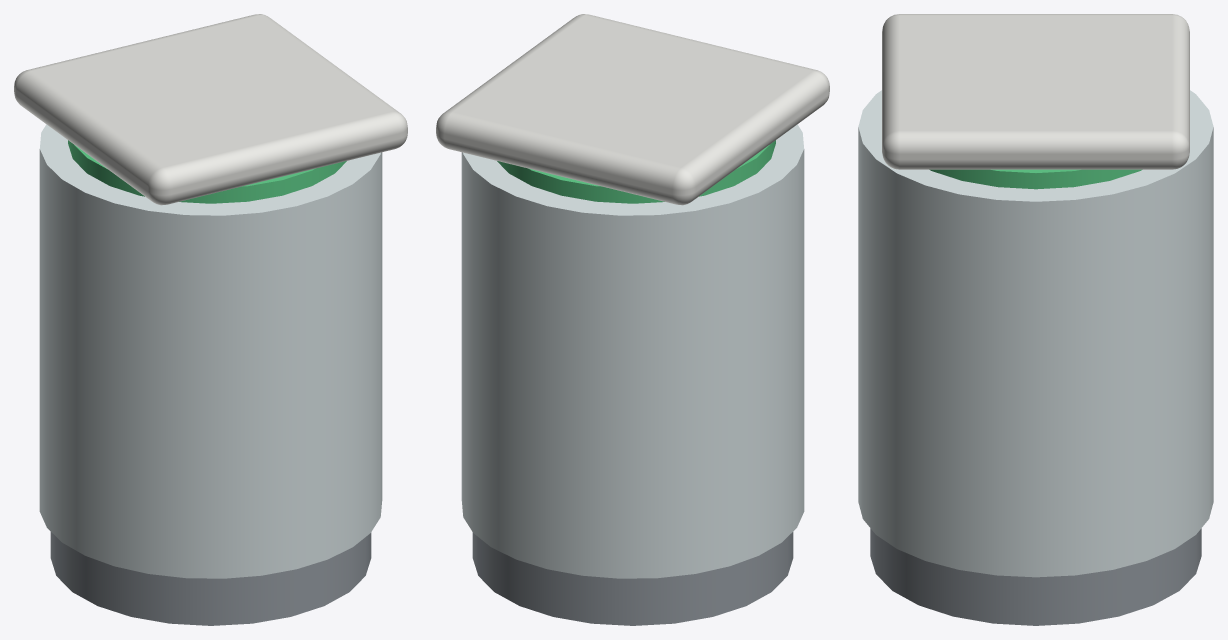
File: smartspeaker.glb
3 renders of one model, left to right at view 1: azimuth 30°, elevation 25°; view 2: azimuth 150°, elevation 25°; view 3: azimuth 270°, elevation 25°, orthographic. The views are drawn at different scales.
Visible parts, largest first — view 1: material-0-grating, material-3-trim, material-1-metal, material-2-lit; view 2: material-0-grating, material-3-trim, material-1-metal, material-2-lit; view 3: material-0-grating, material-3-trim, material-1-metal, material-2-lit.
Boxes of the visible parts, box(x1,y1,x2,y2) form: material-0-grating: box(39, 124, 382, 578); material-3-trim: box(14, 14, 407, 205); material-1-metal: box(50, 532, 371, 625); material-2-lit: box(68, 140, 346, 203); material-0-grating: box(461, 124, 804, 578); material-3-trim: box(436, 14, 829, 205); material-1-metal: box(472, 532, 793, 625); material-2-lit: box(497, 140, 775, 203); material-0-grating: box(858, 90, 1213, 577); material-3-trim: box(882, 14, 1189, 169); material-1-metal: box(870, 528, 1201, 625); material-2-lit: box(929, 169, 1142, 189).
Size of the model in its own units: 0.12 by 0.18 by 0.12.
